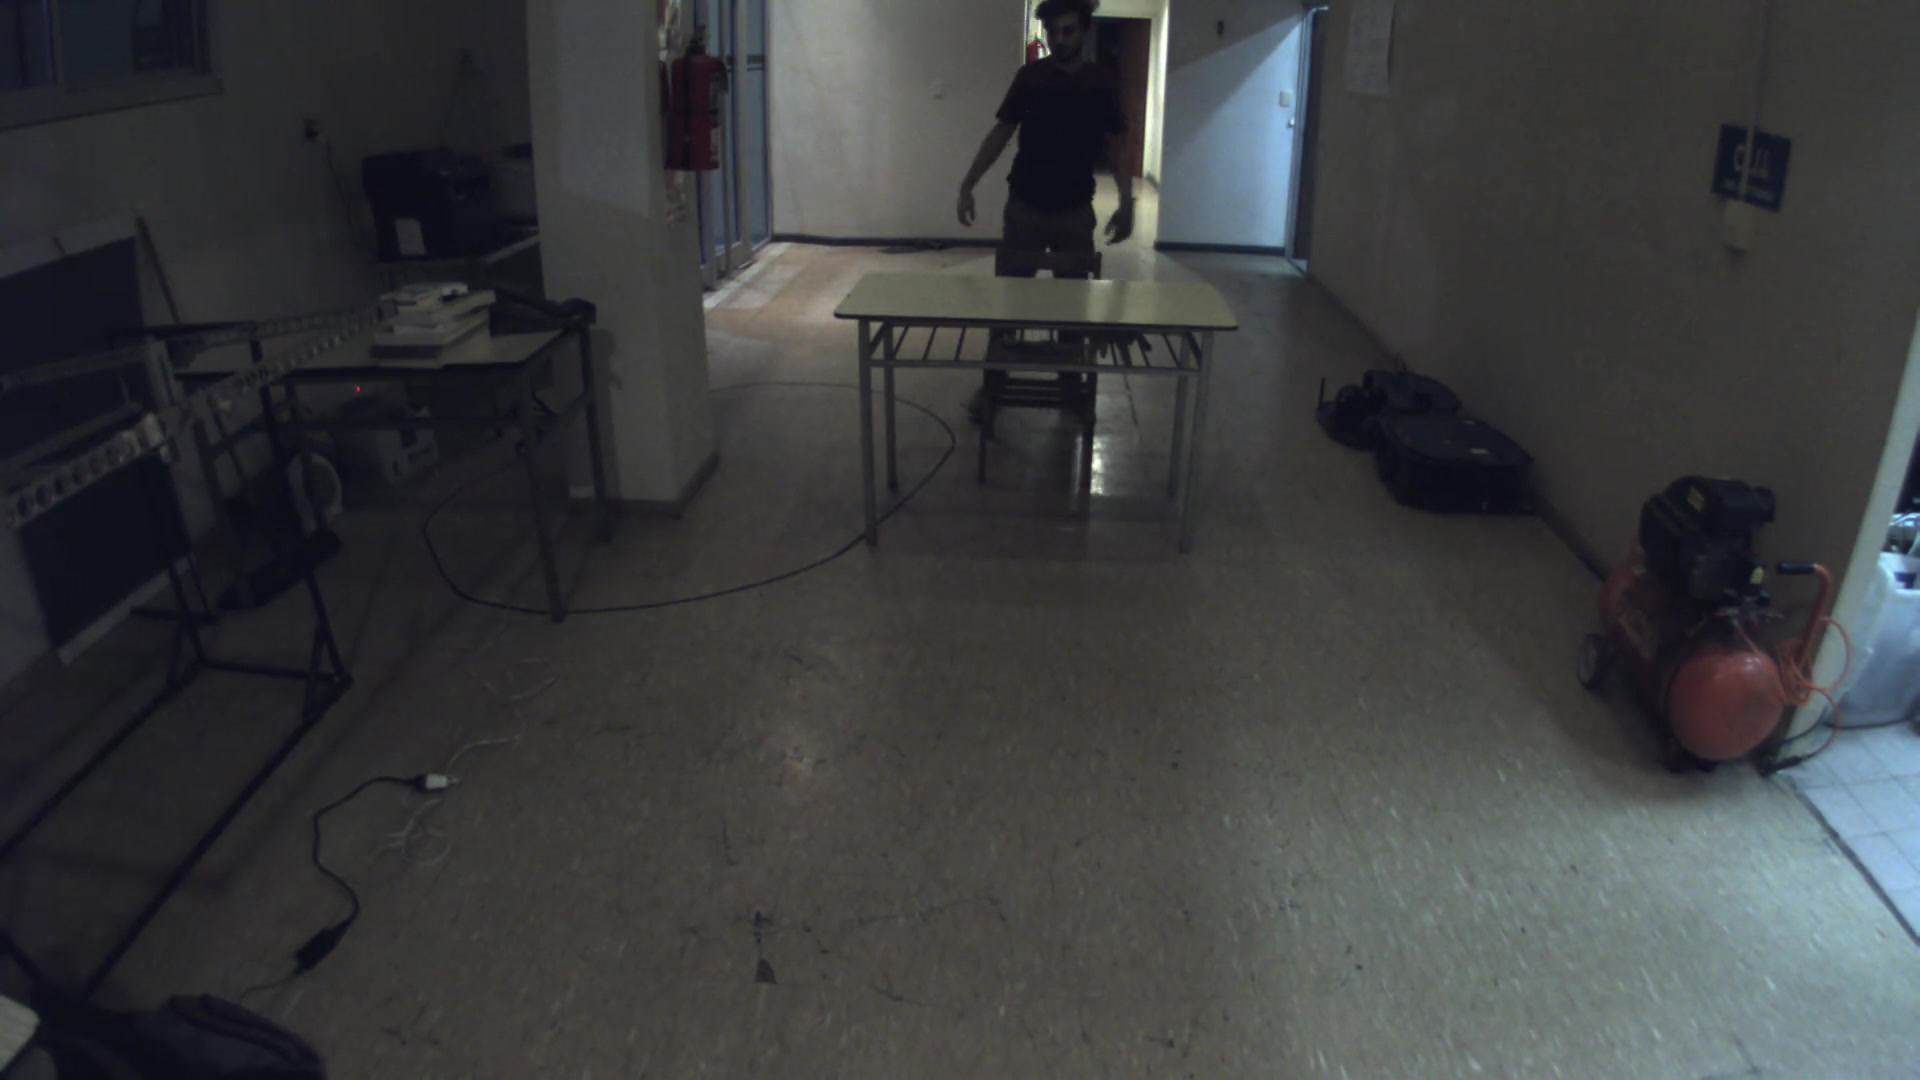hand: (1098, 195, 1149, 249), (945, 173, 988, 229)
